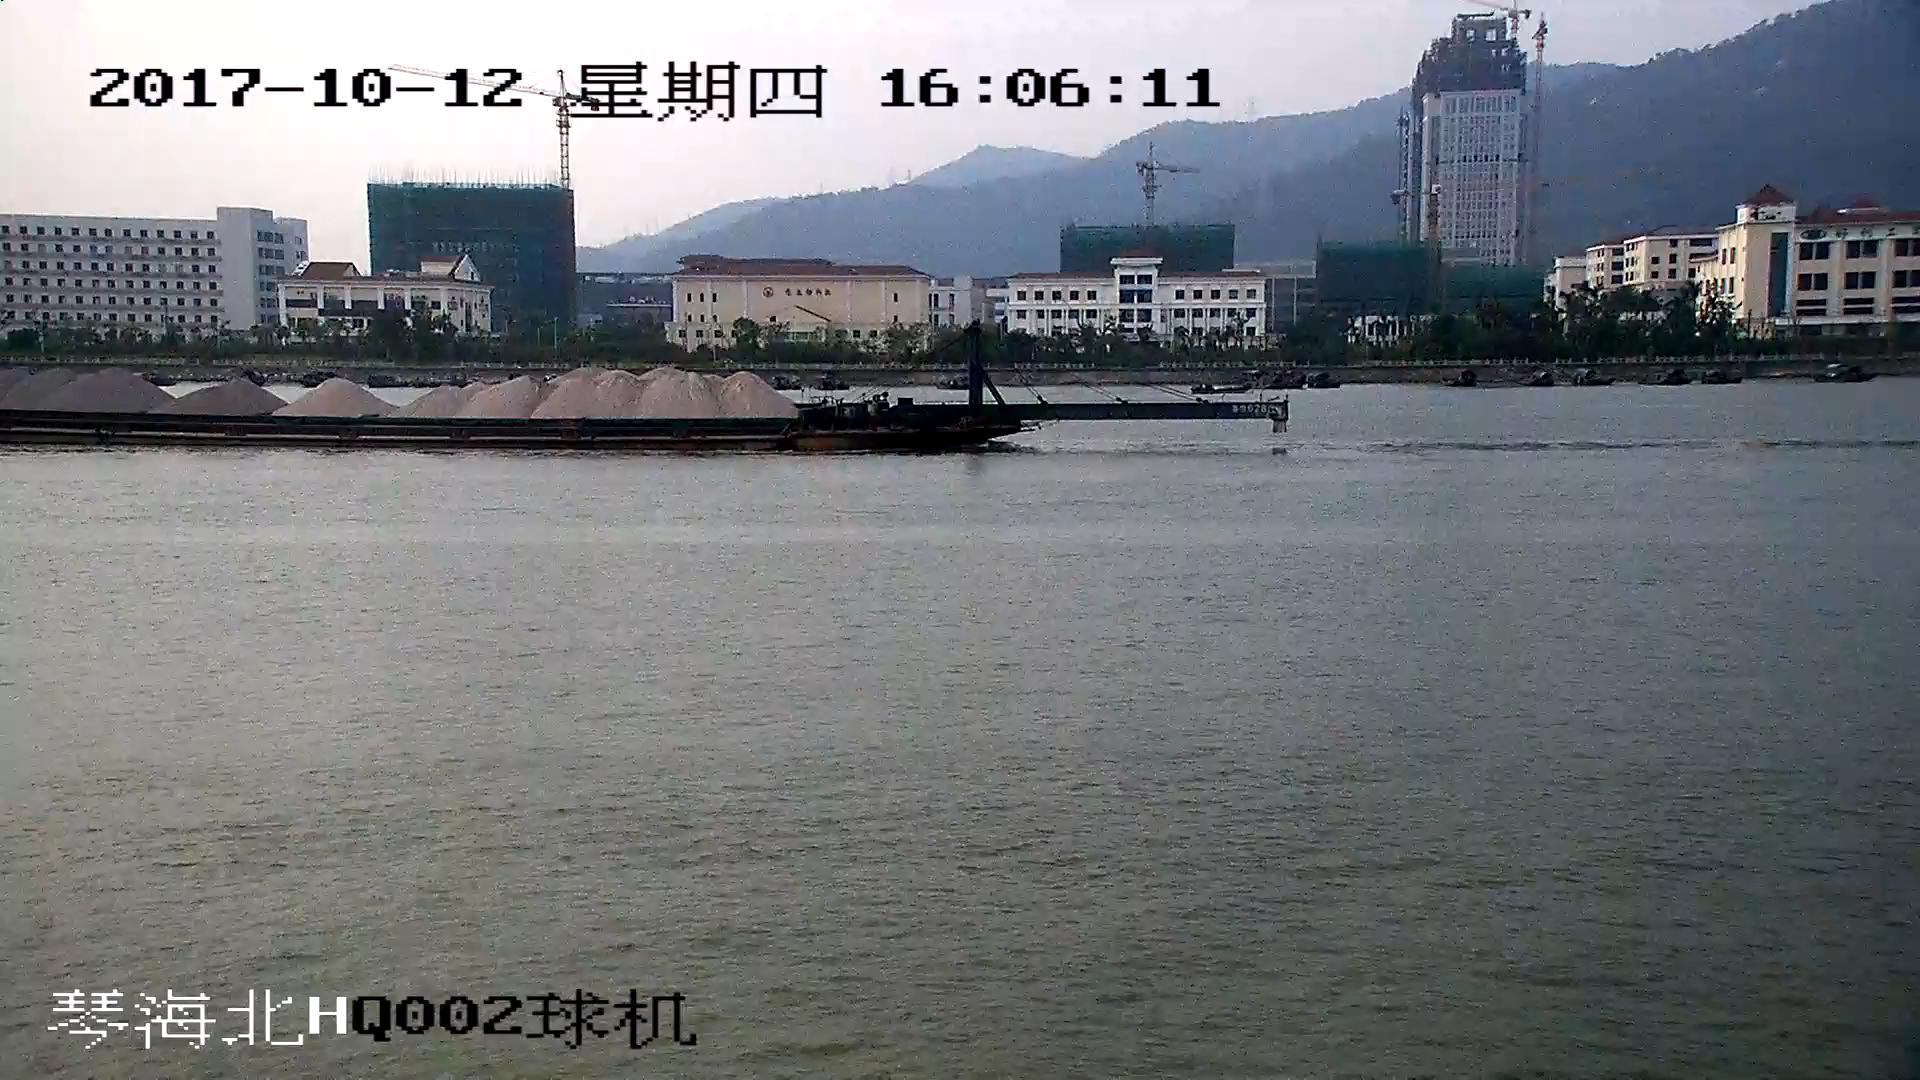ore carrier: (1, 319, 1286, 452)
